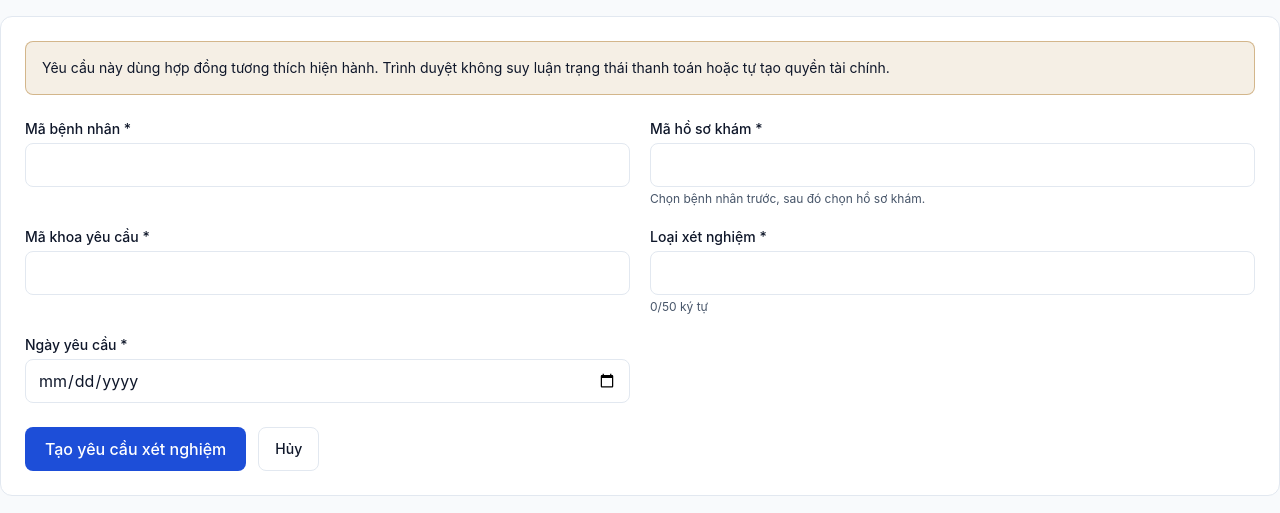
Test: Create lab request form › rejects malformed IDs and missing required fields before creating a lab request
Type "123e4567-e89b-42d3-a456-426614174001" into the field labelled "Mã bệnh nhân" at x=328, y=165, box [25,143,630,187]
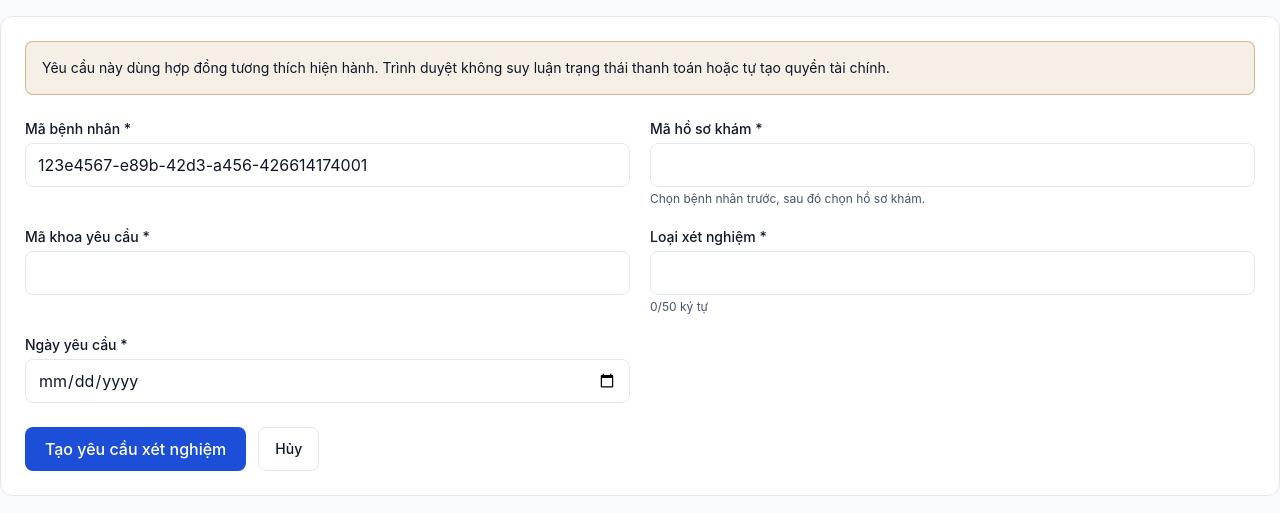
Type "123e4567-e89b-42d3-a456-426614174000" into the field labelled "Mã hồ sơ khám" at x=952, y=165, box [650,143,1255,187]
Type "123e4567-e89b-42d3-a456-426614174002" into the field labelled "Mã khoa yêu cầu" at x=328, y=273, box [25,251,630,295]
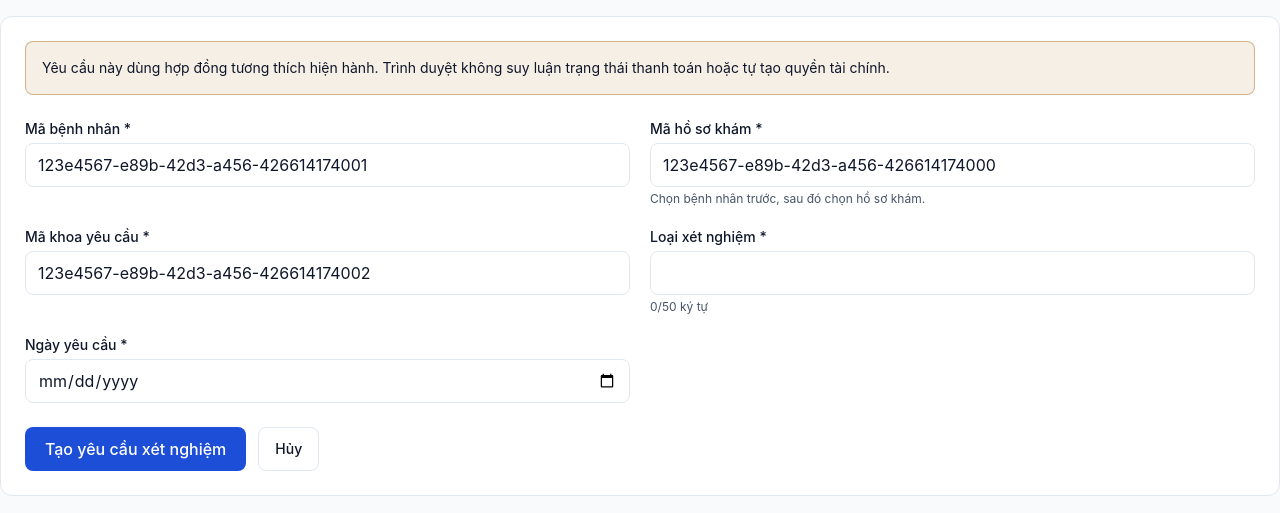
Type "CBC" into the field labelled "Loại xét nghiệm" at x=952, y=273, box [650,251,1255,295]
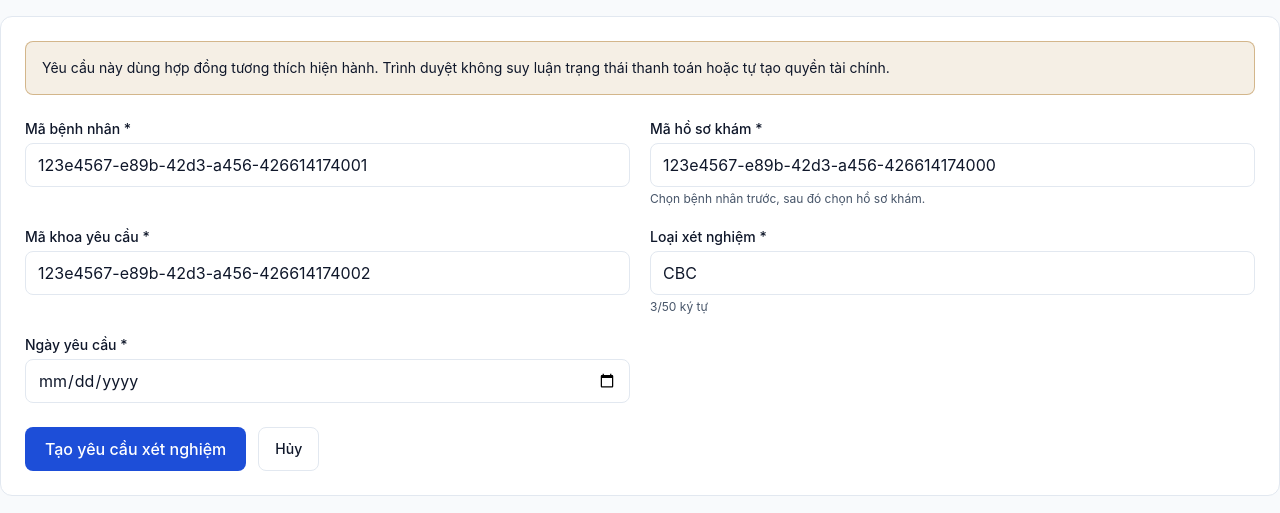
Type "2026-10-16" into the date field labelled "Ngày yêu cầu" at x=328, y=381, box [25,359,630,403]
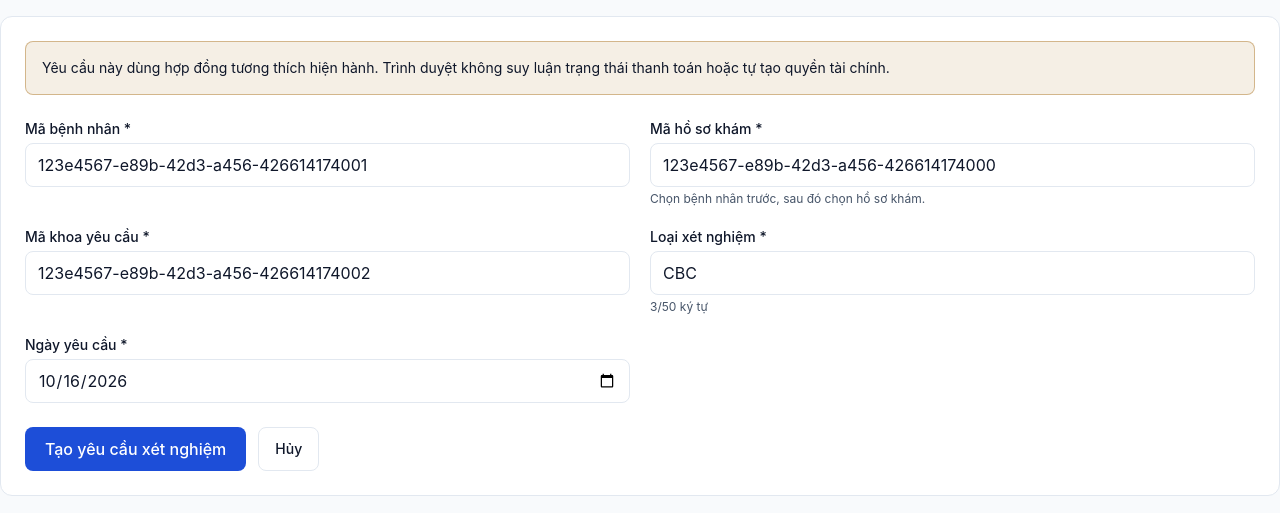
Replace the text in the field labelled "Mã bệnh nhân" with "patient" at x=328, y=165, box [25,143,630,187]
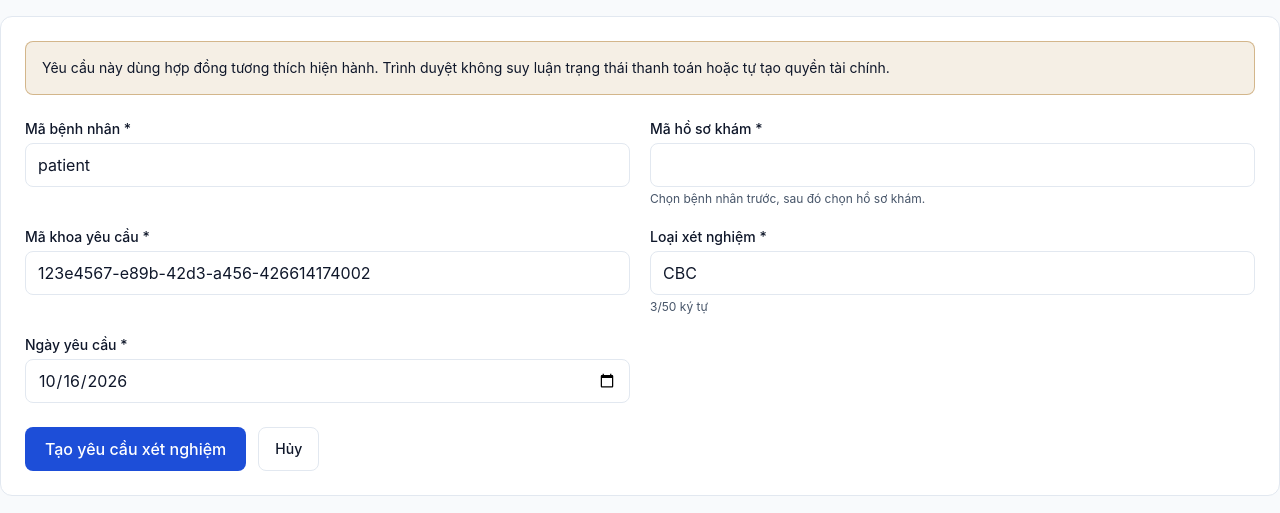
Click the button "Tạo yêu cầu xét nghiệm" at x=136, y=449, box [25,427,246,471]
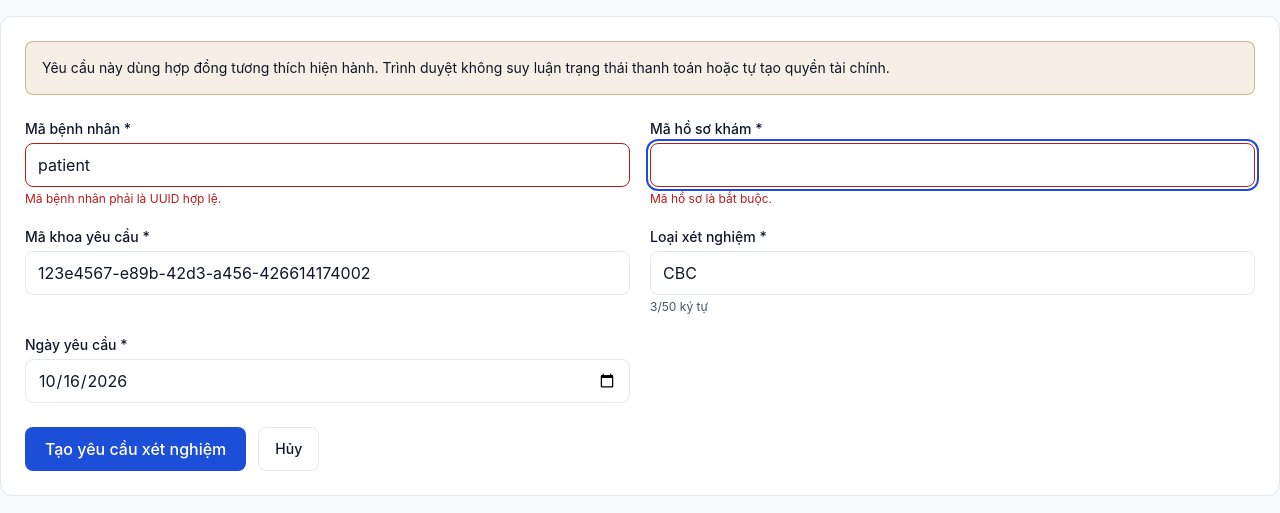
Expected: the text "Mã bệnh nhân phải là UUID hợp lệ." is shown, [25,191,221,206]
